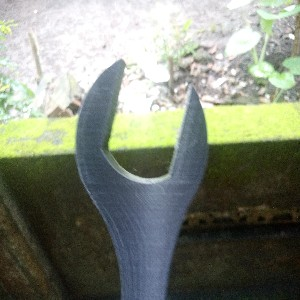spanner: (74, 57, 207, 300)
